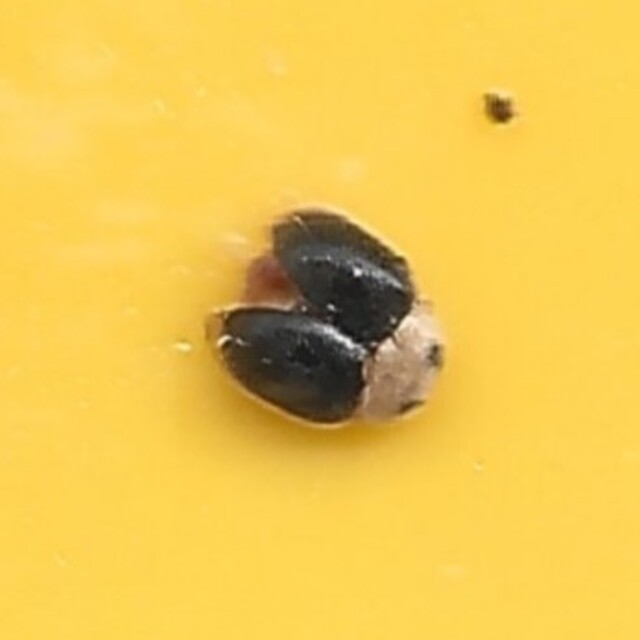Coleoptera: (184, 198, 456, 442)
